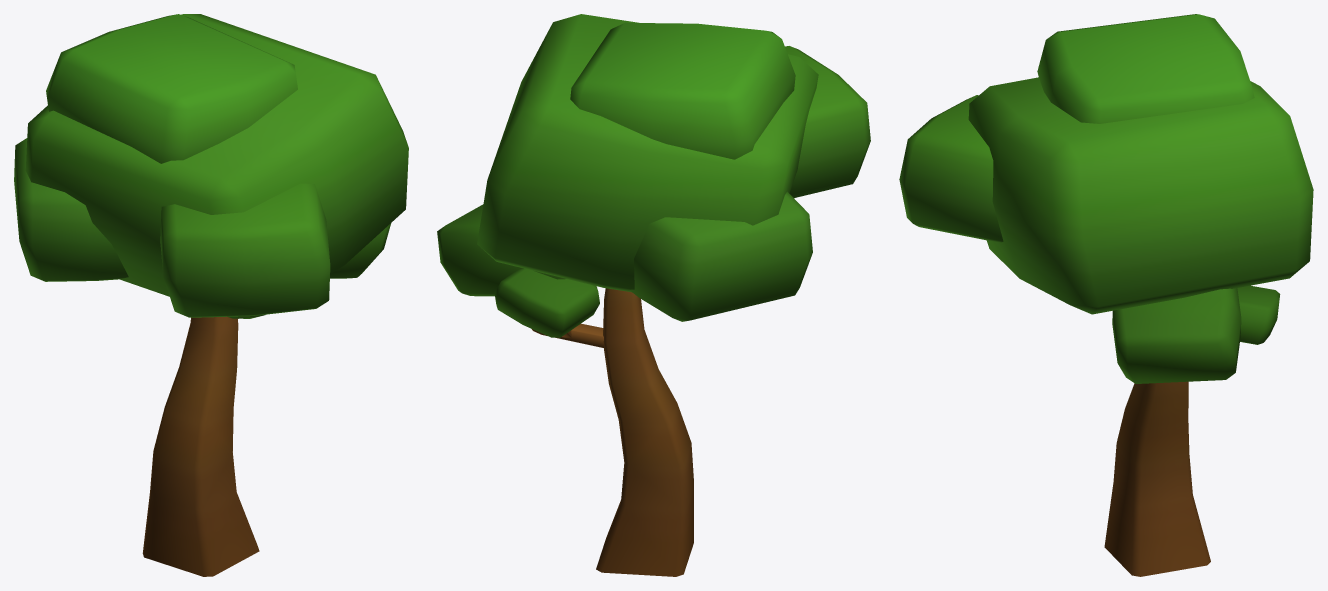
Rendered from Tree_B_6_.fbx.
3 views of the same model, side by side, from view 1: azimuth 30°, elevation 25°; view 2: azimuth 150°, elevation 25°; view 3: azimuth 270°, elevation 25° (orthographic). The views are drawn at different scales.
Parts seen in each view (by area): view 1: Tree_B_6; view 2: Tree_B_6; view 3: Tree_B_6.
Part boxes in pixels (x1,y1,x2,y2): Tree_B_6: (14,14,408,576); Tree_B_6: (437,14,870,576); Tree_B_6: (899,14,1313,576).
Bounding box in the file's own units: 286 × 399 × 305.
